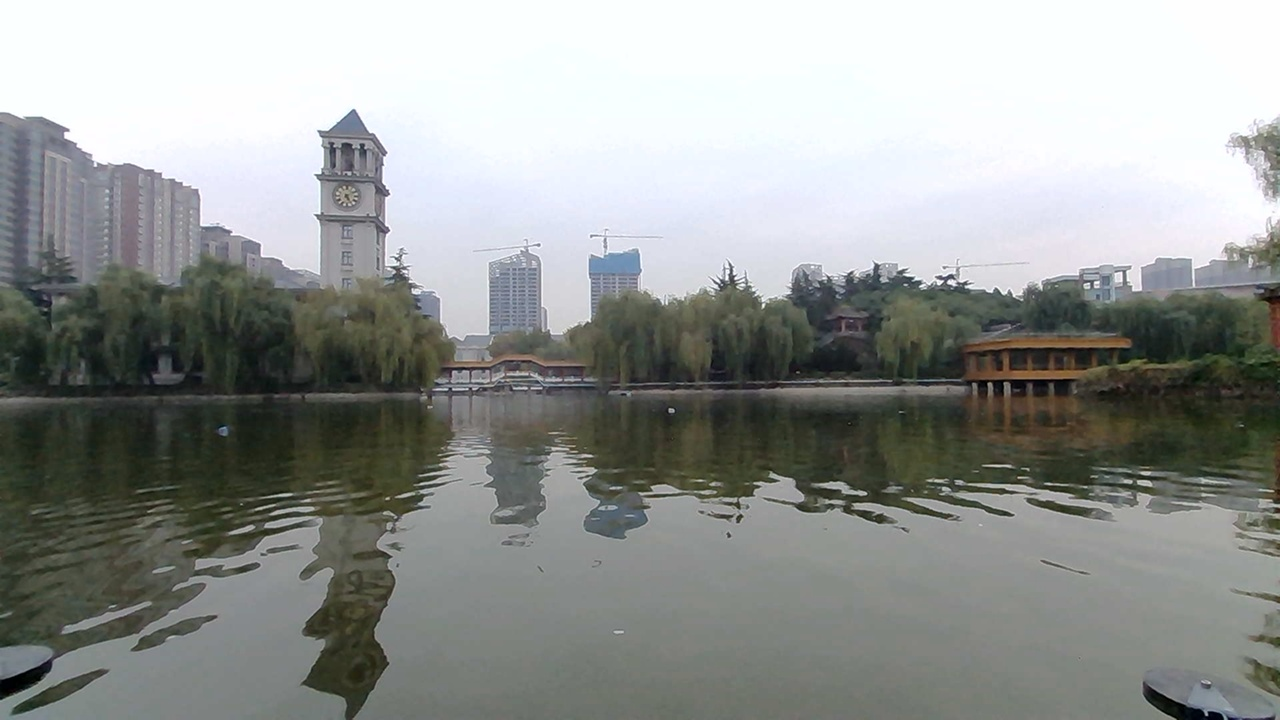bottle: (207, 419, 241, 441), (660, 398, 696, 417)
